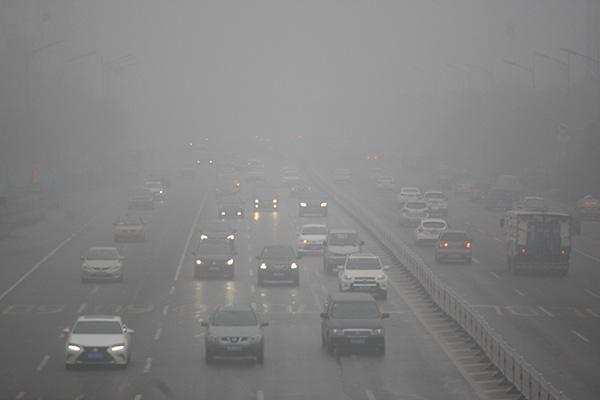bus: (500, 209, 572, 277)
car: (320, 291, 390, 357), (201, 302, 269, 366), (63, 316, 135, 371), (336, 254, 390, 299), (255, 243, 302, 286), (191, 239, 240, 280), (323, 228, 365, 272), (79, 246, 126, 282), (432, 230, 473, 263), (296, 223, 331, 258), (197, 222, 239, 249), (112, 215, 149, 243), (414, 219, 448, 246), (396, 201, 431, 227), (299, 191, 329, 217), (418, 191, 449, 216), (216, 196, 247, 219), (485, 187, 512, 211), (127, 187, 154, 211), (395, 187, 423, 210), (253, 188, 280, 210), (522, 196, 545, 219), (215, 174, 240, 195), (141, 181, 167, 201), (289, 178, 312, 197), (470, 180, 490, 201), (375, 176, 397, 193), (245, 166, 265, 183), (331, 168, 352, 184), (280, 171, 300, 184)
